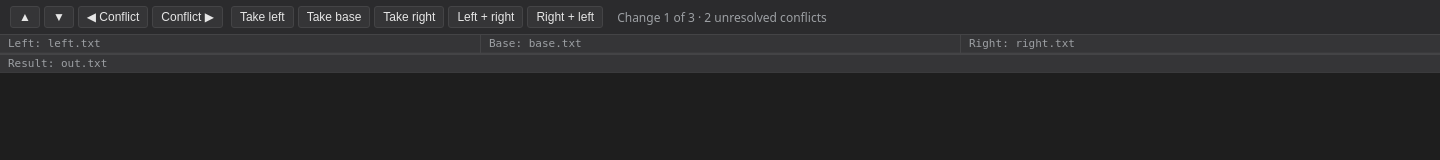
it: MergeView › steps through changes and conflicts, wrapping around
Check: the message shows "Change", box x1=617 y1=8 x2=827 y2=26
What coordinates should you click on to do the following:
click the button named "Next change"
I would click on:
 (59, 17)
Its box is x1=44 y1=6 x2=74 y2=28.
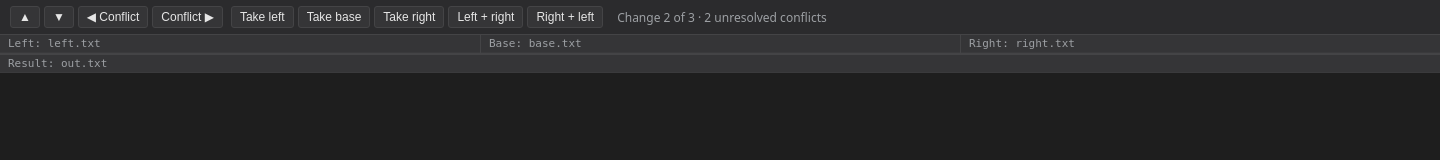
Check: the message shows "Change 2 of 3", box x1=617 y1=8 x2=827 y2=26
What coordinates should you click on to do the following:
click the button named "Previous change"
I would click on:
 (25, 17)
Its box is x1=10 y1=6 x2=40 y2=28.
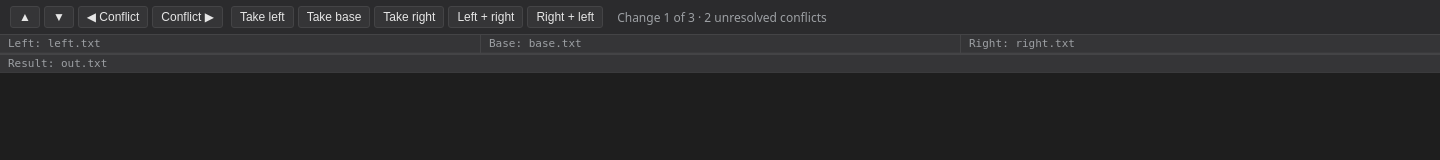
Check: the message shows "Change 1 of 3", box x1=617 y1=8 x2=827 y2=26
What coordinates should you click on to do the following:
click the button named "Previous change"
I would click on:
 (25, 17)
Its box is x1=10 y1=6 x2=40 y2=28.
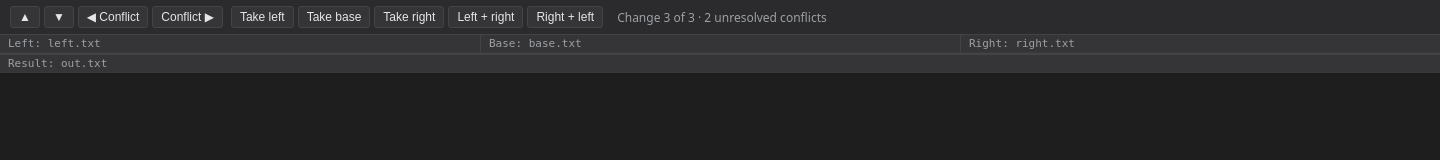
Check: the message shows "Change 3 of 3", box x1=617 y1=8 x2=827 y2=26
What coordinates should you click on to do the following:
click the button with aria-label "Next conflict"
I would click on:
 (188, 17)
Its box is x1=152 y1=6 x2=223 y2=28.
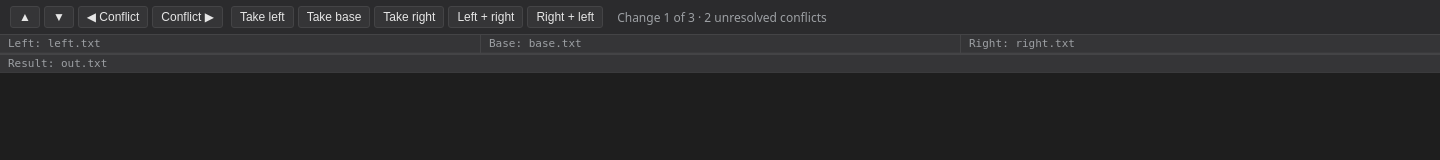
Check: the message shows "Change 1 of 3", box x1=617 y1=8 x2=827 y2=26
What coordinates should you click on to do the following:
click the button with aria-label "Previous conflict"
I would click on:
 (113, 17)
Its box is x1=78 y1=6 x2=148 y2=28.
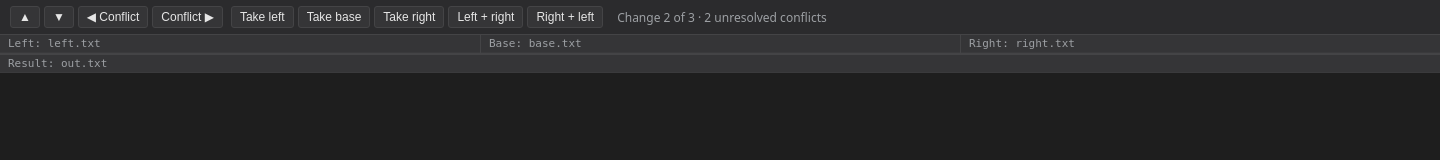
Check: the message shows "Change 2 of 3", box x1=617 y1=8 x2=827 y2=26
